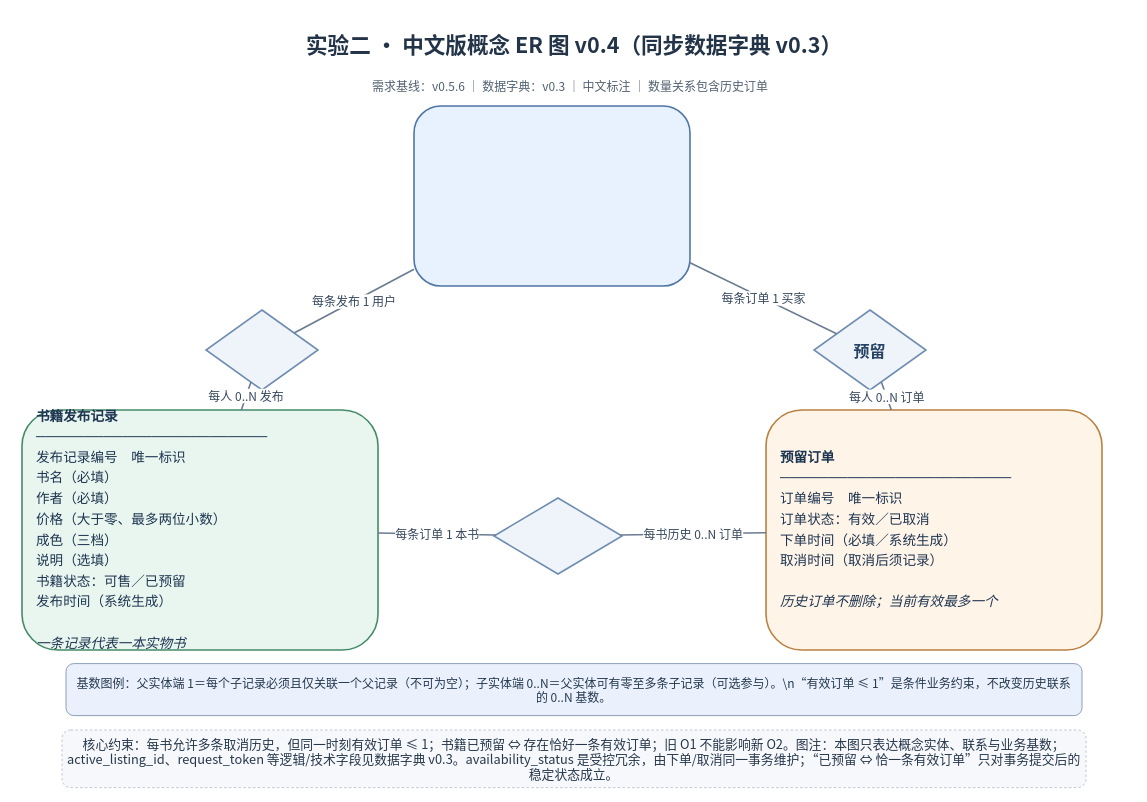
Some shapes in this 1147 by 802 pixel diagram are drawn without their labels. Here are the shapes that lost their labels. From the top down, the centre of each, then its label:
At [551,195]: "用户（预置账号） ──────────────────────── 用户编号 唯一标识 预置账号 必填且唯一 同一用户可同时作为买家和卖家".
At [261,349]: "发布".
At [557,535]: "关联订单".
